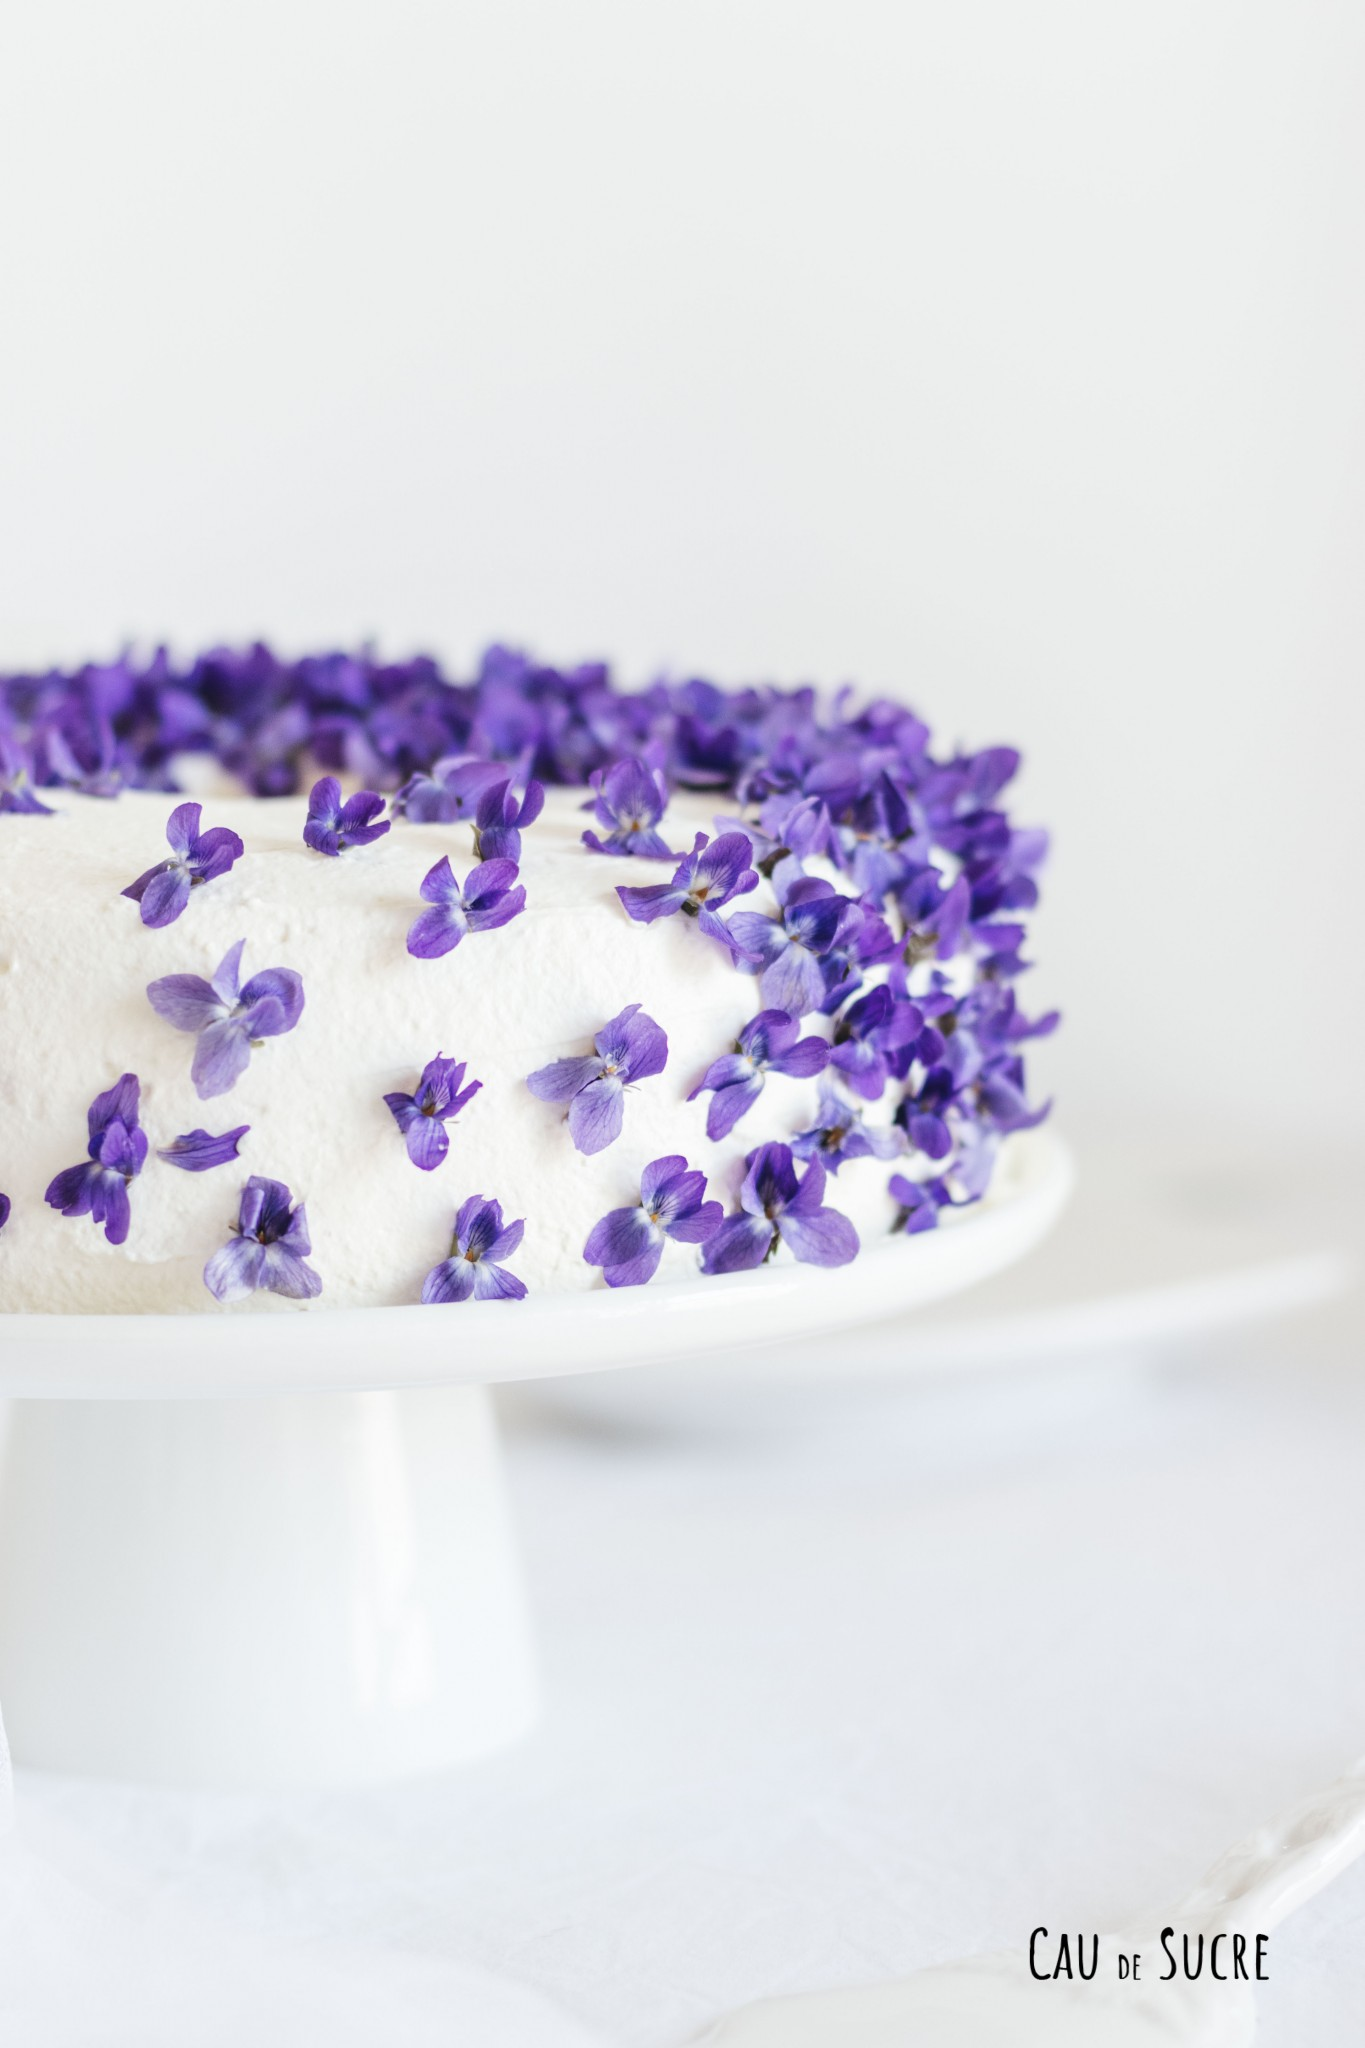violet: (53, 652, 951, 828), (728, 758, 1088, 1179), (129, 912, 302, 1083), (37, 1086, 184, 1236), (529, 1008, 689, 1145), (206, 1171, 363, 1300), (574, 1169, 725, 1293), (369, 1049, 507, 1172), (408, 837, 532, 962), (398, 1206, 551, 1299), (128, 818, 232, 923)
